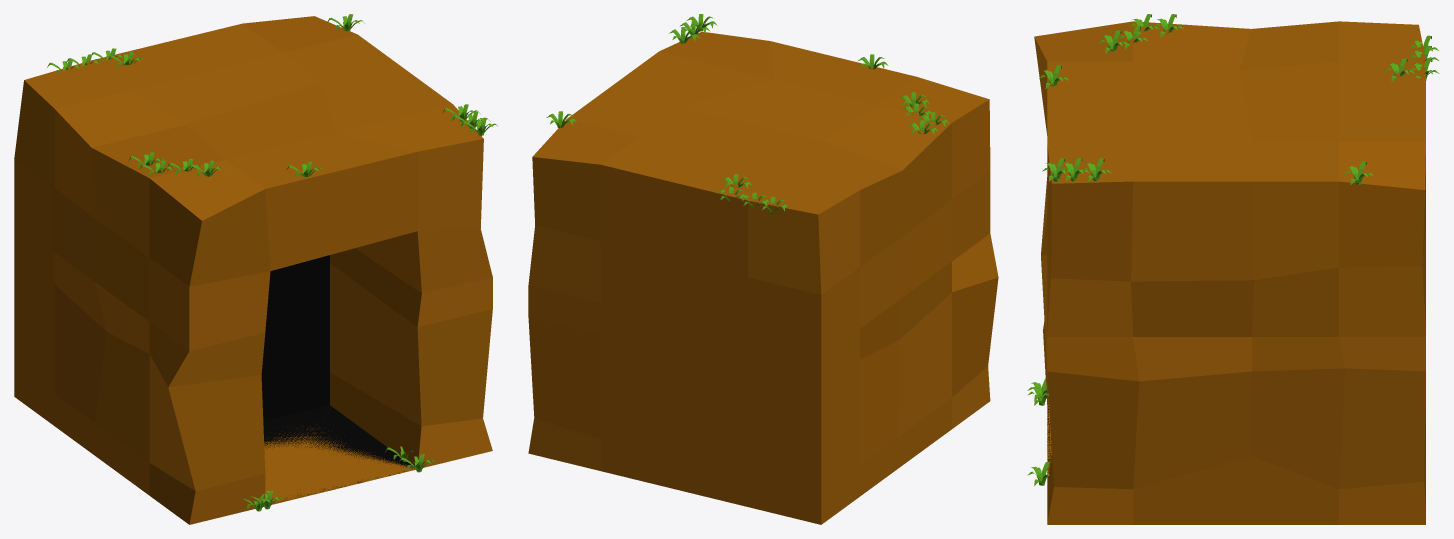
The model's file is block2.obj.
3 views of the same model, side by side, from view 1: azimuth 30°, elevation 25°; view 2: azimuth 150°, elevation 25°; view 3: azimuth 270°, elevation 25° (orthographic). The views are drawn at different scales.
Parts seen in each view (by area): view 1: Plane.003_Plane.010; view 2: Plane.003_Plane.010; view 3: Plane.003_Plane.010.
Part boxes in pixels (x1=…): Plane.003_Plane.010: x1=14, y1=14, x2=497, y2=524; Plane.003_Plane.010: x1=528, y1=14, x2=998, y2=524; Plane.003_Plane.010: x1=1027, y1=14, x2=1439, y2=524.
Bounding box in the file's own units: 4.37 × 4.14 × 4.36.
